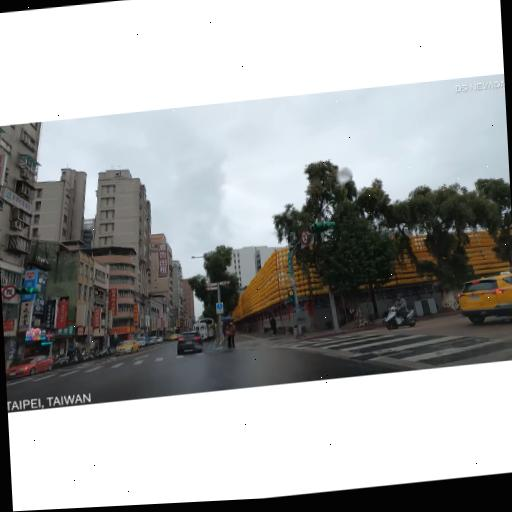Car: (451, 264, 512, 326), (6, 349, 58, 380), (175, 325, 205, 358), (198, 314, 218, 341), (190, 317, 210, 343), (116, 338, 142, 355), (155, 333, 164, 344)
